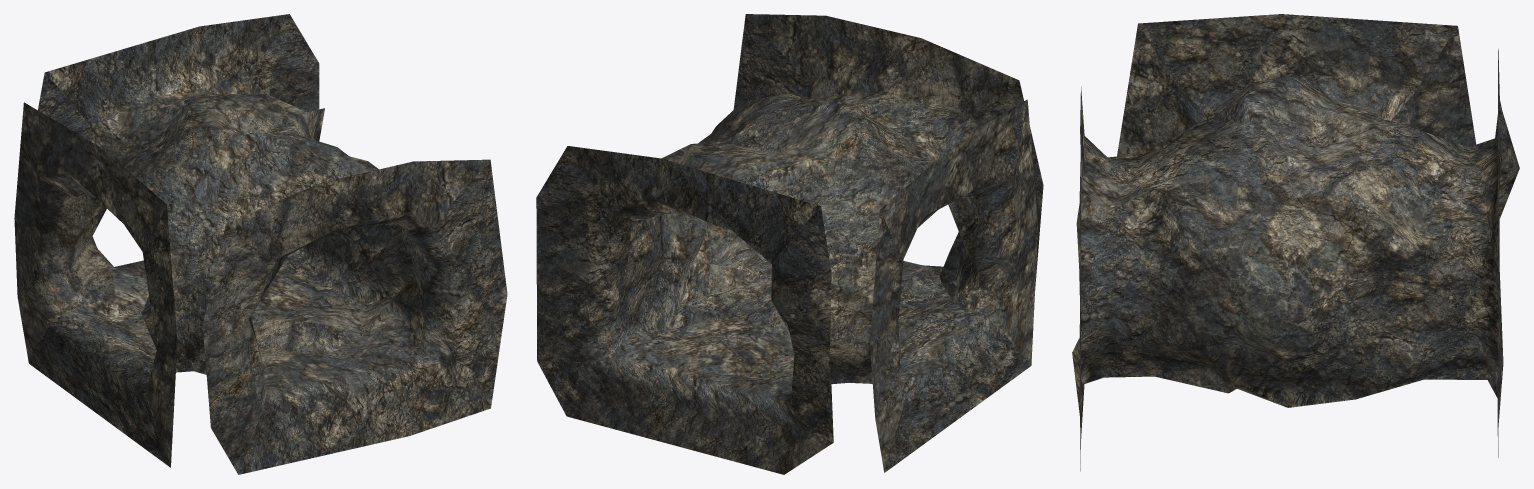
Rendered from Module8_LOD1.fbx.
3 renders of one model, left to right at view 1: azimuth 30°, elevation 25°; view 2: azimuth 150°, elevation 25°; view 3: azimuth 270°, elevation 25°, orthographic. The views are drawn at different scales.
Parts seen in each view (by area): view 1: cave_el8_800_Group26002; view 2: cave_el8_800_Group26002; view 3: cave_el8_800_Group26002.
Boxes of the visible parts, bbox=[...] form: cave_el8_800_Group26002: bbox=[14, 14, 507, 474]; cave_el8_800_Group26002: bbox=[536, 14, 1043, 474]; cave_el8_800_Group26002: bbox=[1072, 14, 1519, 471].
Size of the model in its own units: 9.96 by 8.26 by 10.74.
